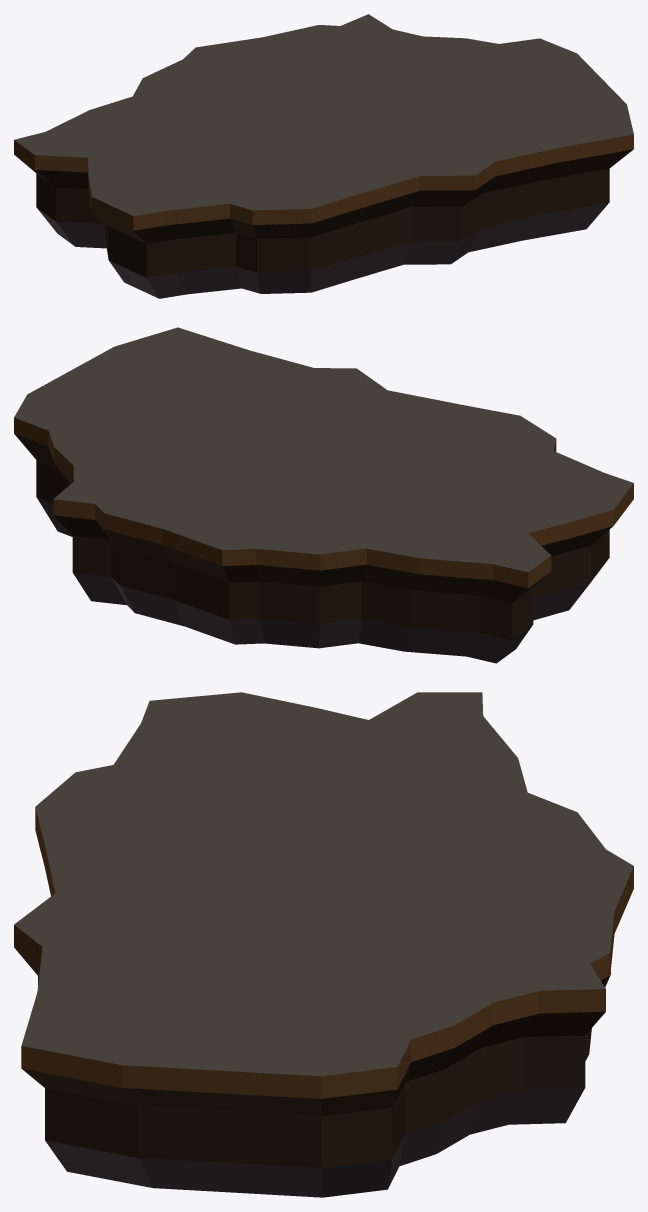
Rendered from ground2.glb.
The picture shows the model from 3 angles, top to bottom: view 1: azimuth 30°, elevation 25°; view 2: azimuth 150°, elevation 25°; view 3: azimuth 270°, elevation 25°; orthographic projection. The views are drawn at different scales.
Parts seen in each view (by area): view 1: Plane; view 2: Plane; view 3: Plane.
Boxes of the visible parts, x1,y1,x2,y2 form: Plane: (14,14,633,298); Plane: (14,327,633,663); Plane: (14,692,633,1197).
Size of the model in its own units: 32.15 by 5.87 by 21.93.
